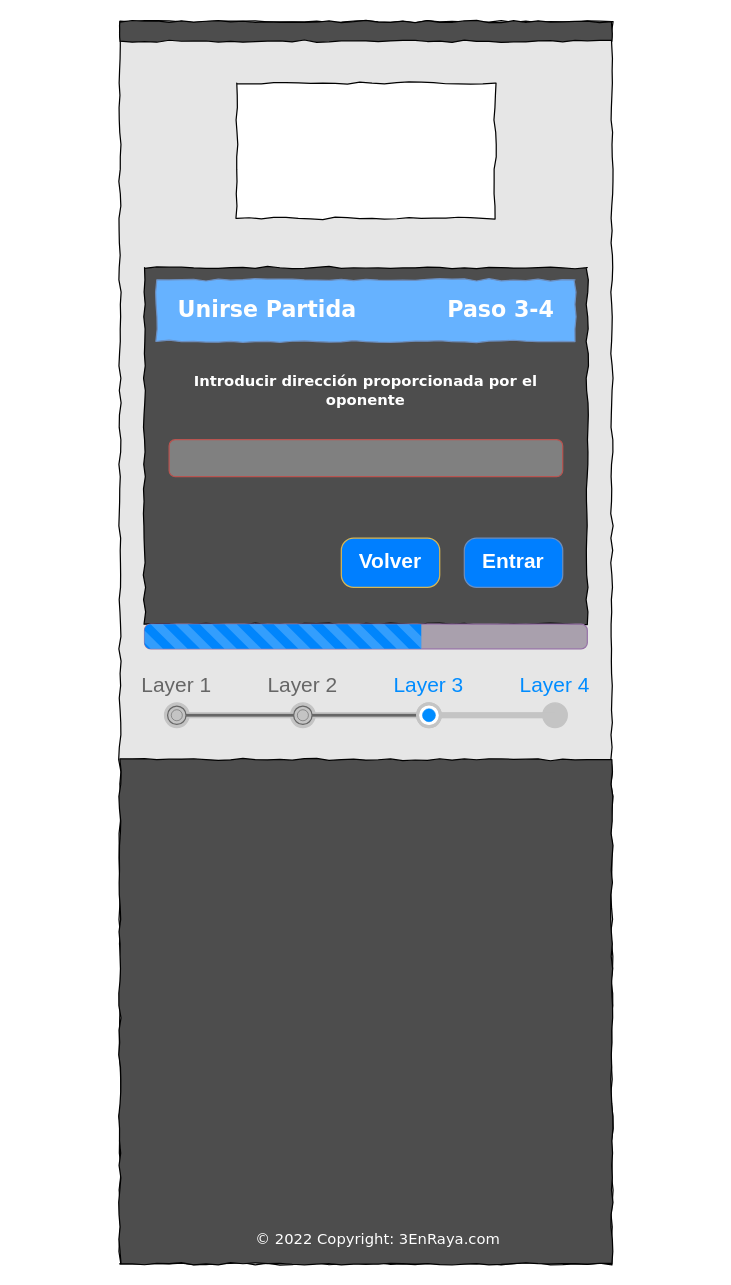
The diagram is 731 pixels wide and 1285 high, and some of its shapes have lost their labels. Each missing label, with the centre of its shape:
"ID Contrato" belongs at [365,457].
"LOGO" belongs at [365,150].
